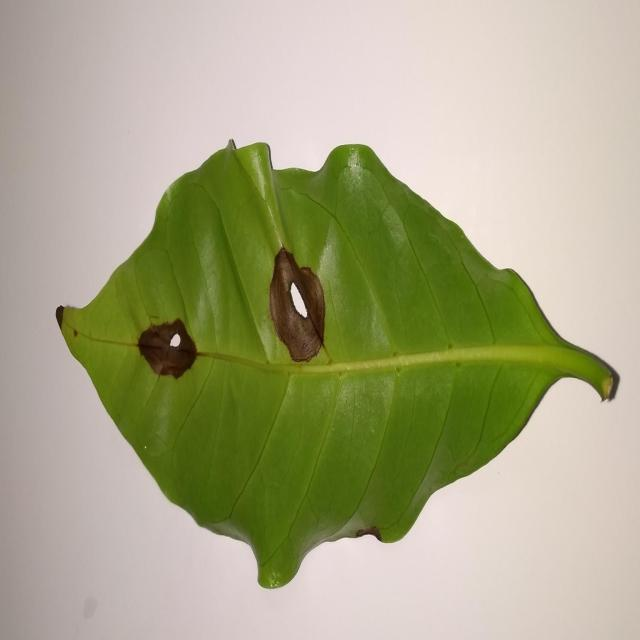Enfermedad-Antracnosis: (54, 143, 622, 593)
